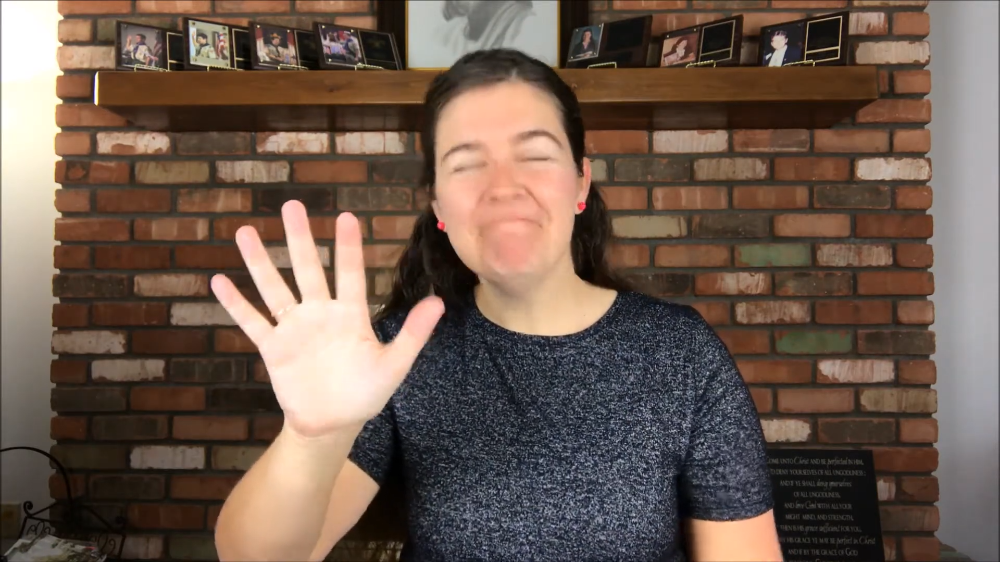hello: (209, 198, 448, 437)
